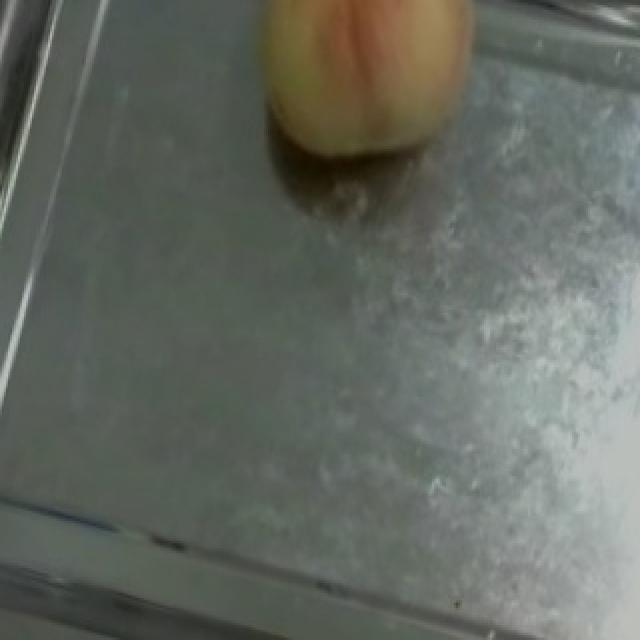Fruit: (210, 0, 520, 193)
